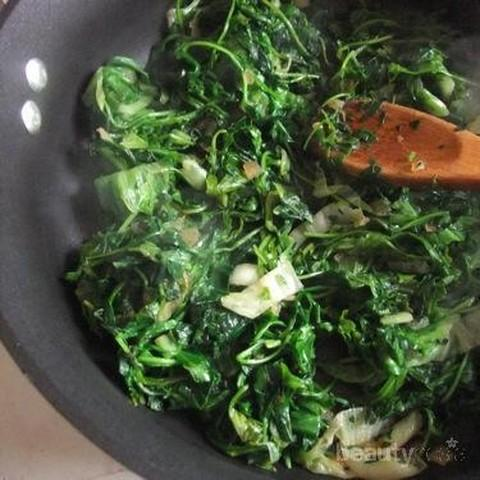buah_sayur_lainnya: (124, 80, 300, 368)
